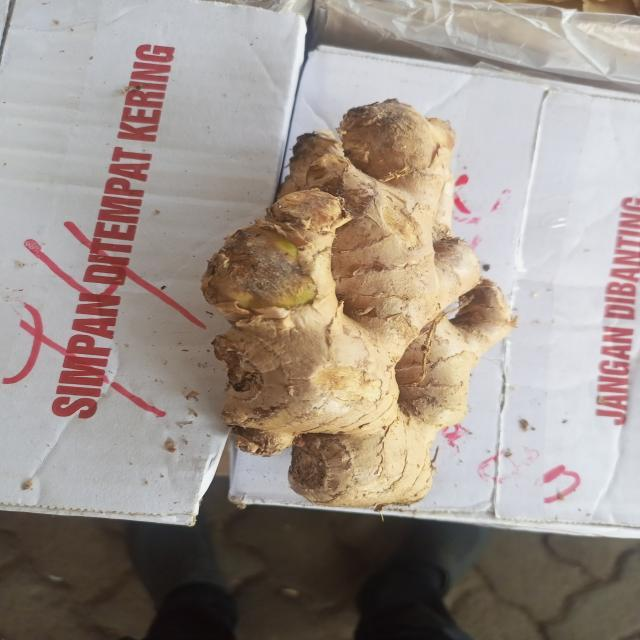ginger: (214, 100, 499, 502)
